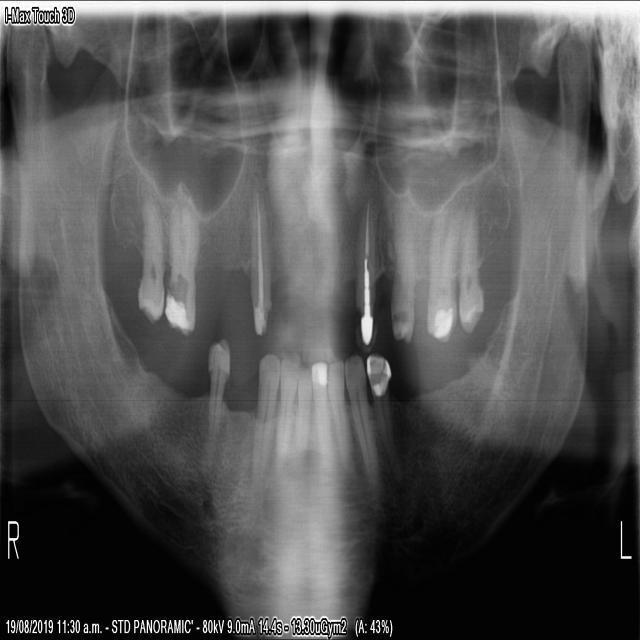LCD: (344, 353, 381, 502)
LCU: (351, 171, 377, 354)
LID: (328, 357, 357, 476), (309, 356, 337, 477)
LMU: (424, 193, 462, 344), (459, 198, 484, 336)
LPMD: (364, 351, 404, 486)
LPMU: (387, 186, 417, 349)
RCD: (249, 348, 278, 495)
RID: (270, 348, 297, 482), (290, 362, 310, 474)
RMU: (162, 177, 198, 341), (132, 165, 163, 327)
RPMD: (195, 332, 230, 472)
